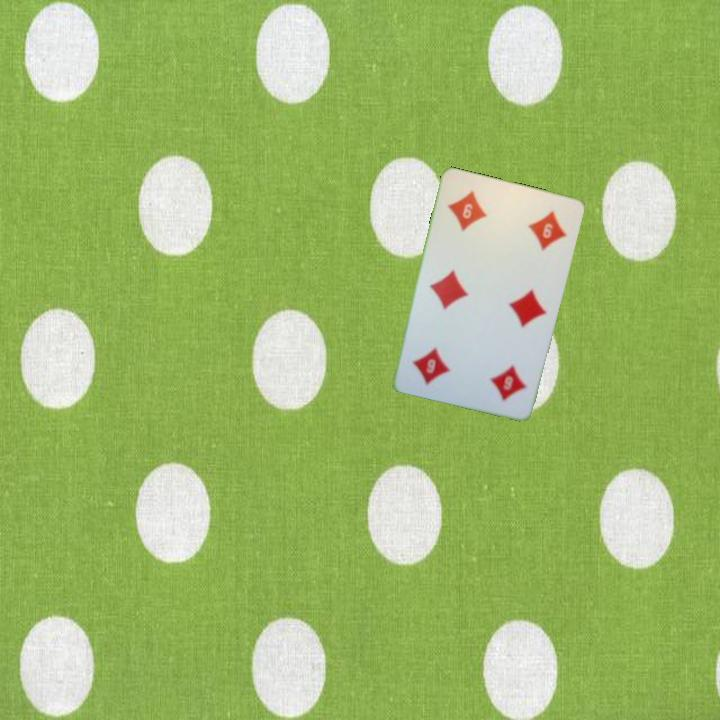d_6.png: (460, 341, 538, 412), (437, 177, 515, 248)
